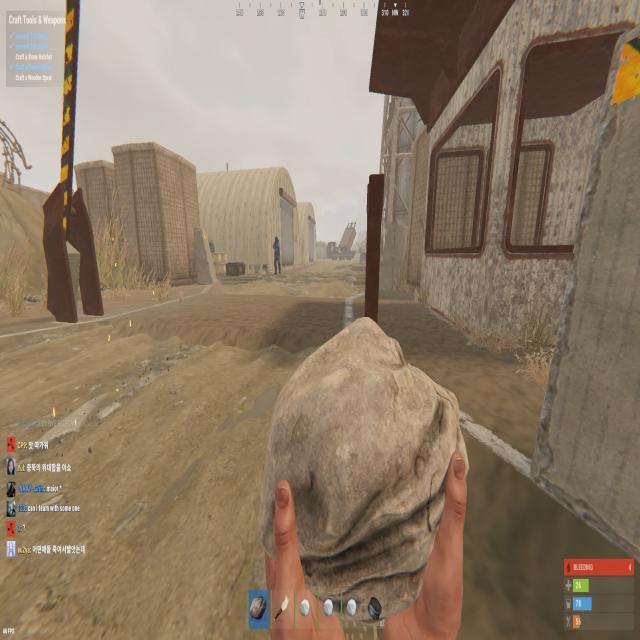Player: (271, 232, 282, 277)
